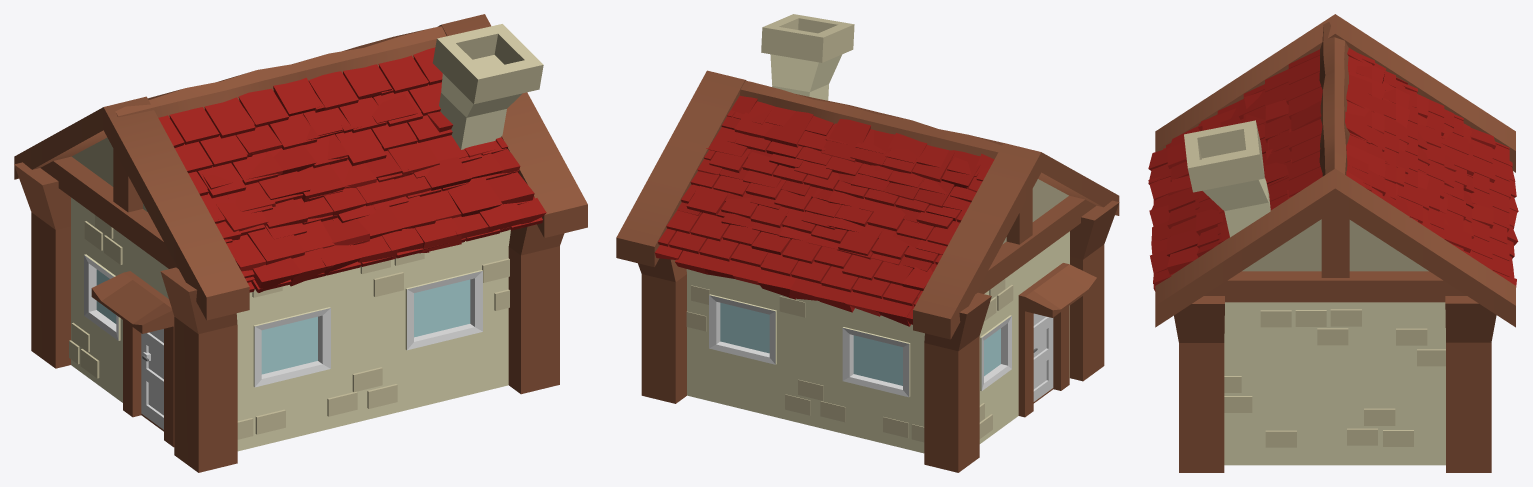
File: House1.fbx
3 views of the same model, side by side, from view 1: azimuth 30°, elevation 25°; view 2: azimuth 150°, elevation 25°; view 3: azimuth 270°, elevation 25° (orthographic). The views are drawn at different scales.
Visible parts, largest first — view 1: Walls, Roofpanels1, RoofBeams, Roofpanels0.001, Poal2, Chimney, Poal1, Poal3, WallBricks, MiddleBeam, DoorFrame, Door (+1 smaller); view 2: Walls, Roofpanels0.001, RoofBeams, Roofpanels1, Poal3, Poal0, Chimney, DoorFrame, Poal2, MiddleBeam, WallBricks, Door (+1 smaller); view 3: RoofBeams, Walls, Roofpanels0.001, Roofpanels1, Poal0, Poal1, Chimney, WallBricks, RoofInside, MiddleBeam.
Part boxes in pixels (bbox=[...]): Walls: bbox=[71, 197, 510, 451]; Roofpanels1: bbox=[197, 75, 546, 292]; RoofBeams: bbox=[14, 14, 587, 320]; Roofpanels0.001: bbox=[158, 47, 542, 292]; Poal2: bbox=[160, 267, 237, 472]; Chimney: bbox=[432, 24, 543, 149]; Poal1: bbox=[508, 224, 564, 394]; Poal3: bbox=[14, 162, 70, 368]; WallBricks: bbox=[69, 215, 509, 439]; MiddleBeam: bbox=[115, 26, 446, 117]; DoorFrame: bbox=[91, 271, 174, 447]; Door: bbox=[141, 329, 163, 429]; Walls: bbox=[686, 231, 1069, 453]; Roofpanels0.001: bbox=[658, 106, 989, 306]; RoofBeams: bbox=[616, 70, 1119, 339]; Roofpanels1: bbox=[654, 95, 994, 326]; Poal3: bbox=[924, 292, 991, 472]; Poal0: bbox=[638, 258, 686, 403]; Chimney: bbox=[761, 14, 854, 100]; DoorFrame: bbox=[1018, 263, 1096, 417]; Poal2: bbox=[1070, 200, 1119, 381]; MiddleBeam: bbox=[739, 81, 1003, 159]; WallBricks: bbox=[686, 279, 1013, 442]; Door: bbox=[1033, 313, 1053, 401]; RoofBeams: bbox=[1155, 14, 1515, 327]; Walls: bbox=[1224, 302, 1445, 465]; Roofpanels0.001: bbox=[1153, 49, 1510, 291]; Roofpanels1: bbox=[1148, 48, 1518, 287]; Poal0: bbox=[1445, 296, 1496, 472]; Poal1: bbox=[1174, 296, 1224, 472]; Chimney: bbox=[1184, 120, 1270, 237]; WallBricks: bbox=[1224, 309, 1445, 447]; RoofInside: bbox=[1242, 219, 1428, 271]; MiddleBeam: bbox=[1319, 22, 1349, 176].
Bounding box in the file's own units: 9.55 × 7.66 × 8.16.
